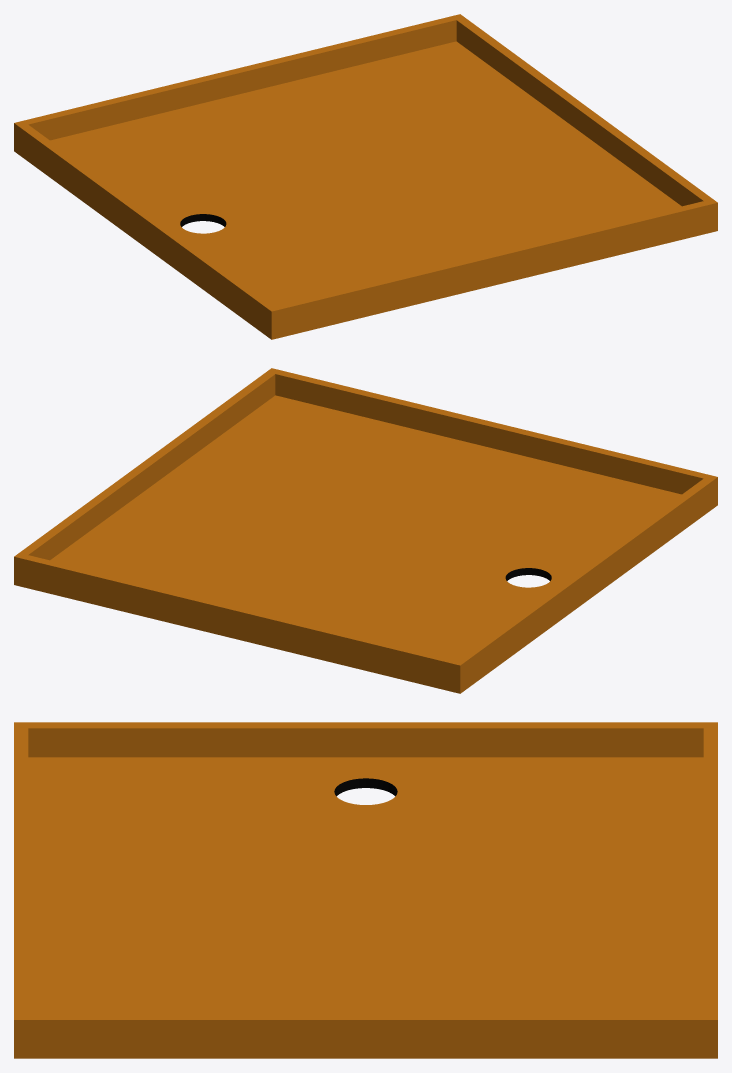
Rendered from board.obj.
3 renders of one model, top to bottom at view 1: azimuth 30°, elevation 25°; view 2: azimuth 150°, elevation 25°; view 3: azimuth 270°, elevation 25°, orthographic. The views are drawn at different scales.
Visible parts, largest first — view 1: Cube; view 2: Cube; view 3: Cube.
Part boxes in pixels (x1,y1,x2,y2): Cube: (14,14,717,339); Cube: (14,368,717,693); Cube: (14,722,717,1058).
Size of the model in its own units: 26.55 by 1.61 by 26.55.
